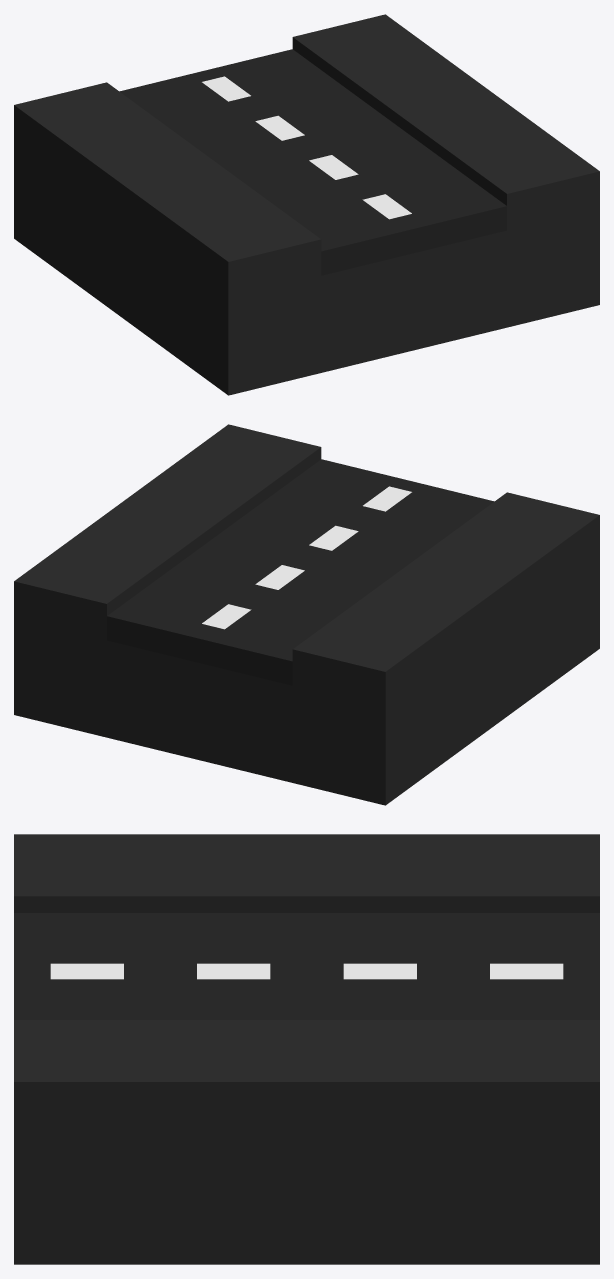
File: road.obj
3 renders of one model, top to bottom at view 1: azimuth 30°, elevation 25°; view 2: azimuth 150°, elevation 25°; view 3: azimuth 270°, elevation 25°, orthographic. The views are drawn at different scales.
Parts seen in each view (by area): view 1: grass, road, plane; view 2: grass, road, plane; view 3: grass, road, plane.
Boxes of the visible parts, x1=… form: grass: x1=14, y1=14, x2=599, y2=395; road: x1=119, y1=49, x2=506, y2=275; plane: x1=202, y1=76, x2=411, y2=219; grass: x1=14, y1=424, x2=599, y2=805; road: x1=107, y1=459, x2=494, y2=685; plane: x1=202, y1=486, x2=411, y2=629; grass: x1=14, y1=834, x2=599, y2=1264; road: x1=14, y1=913, x2=599, y2=1019; plane: x1=50, y1=963, x2=563, y2=979.
Bounding box in the file's own units: 0.25 × 0.0859 × 0.25.
Materials: 1 (1 with a texture image).
